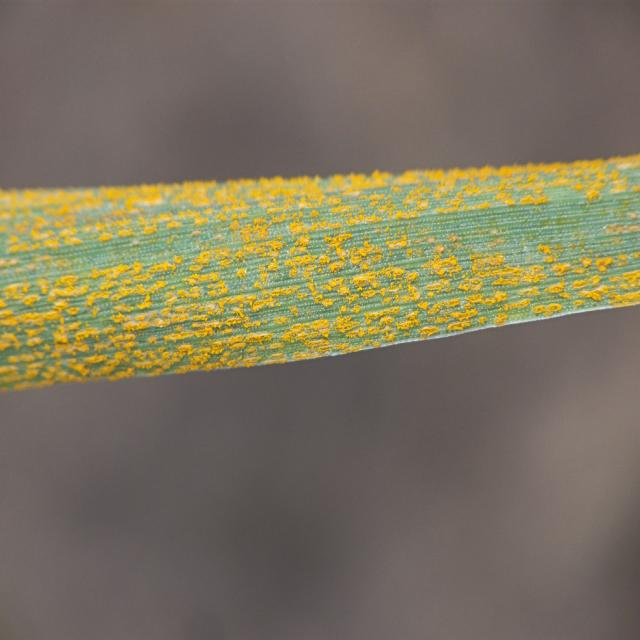wheat-yellowrust: (0, 152, 640, 395)
